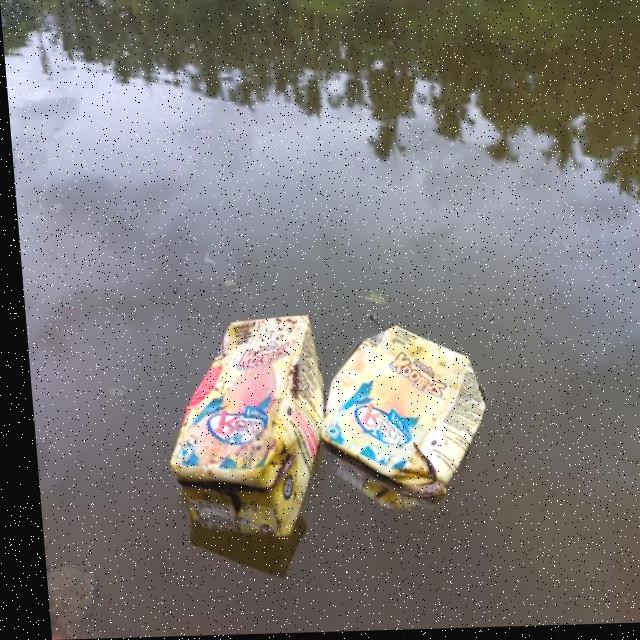paper: (143, 320, 323, 539), (314, 321, 493, 529)
